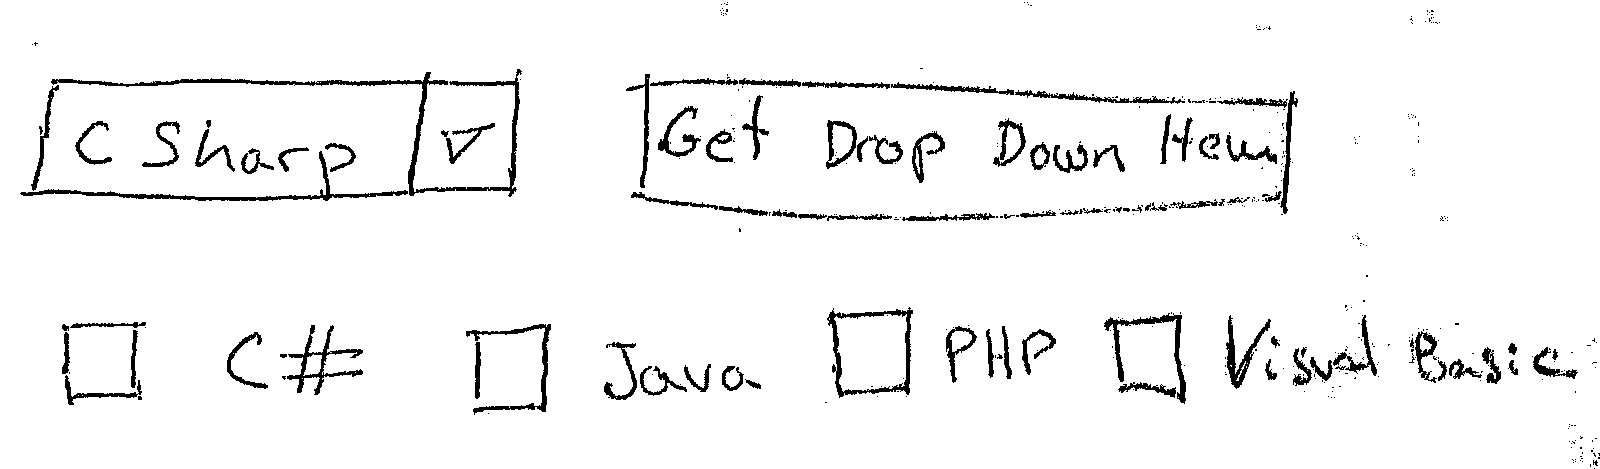Button: (627, 65, 1304, 234)
Check Box: (1104, 305, 1588, 407), (465, 316, 767, 426), (57, 312, 374, 403), (819, 299, 1059, 401)
Select: (23, 71, 535, 205)
